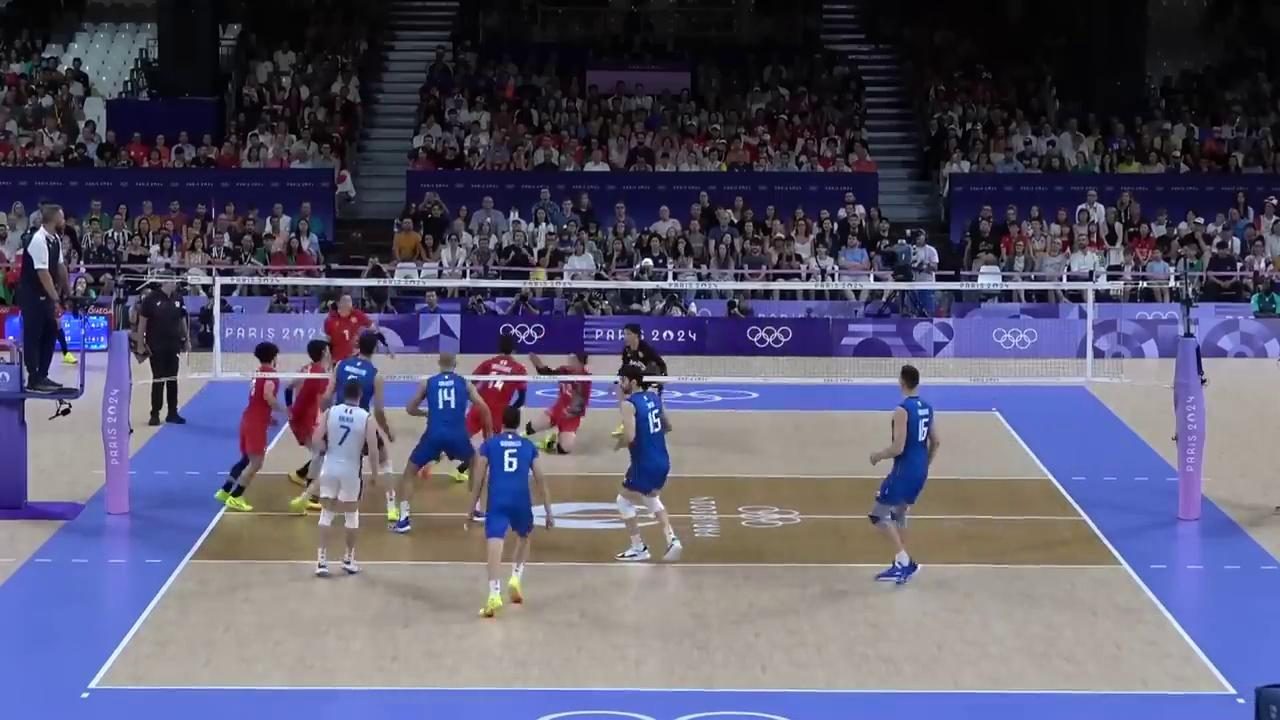ball: (528, 268, 548, 281)
